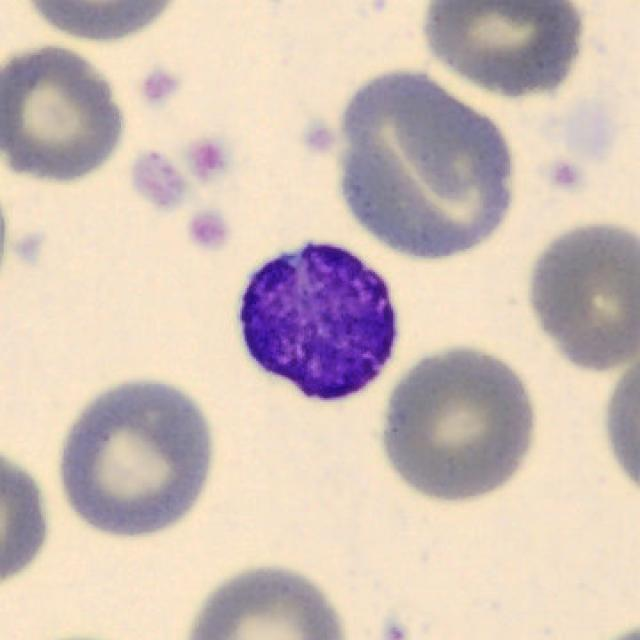Linfocito: (238, 242, 396, 400)
